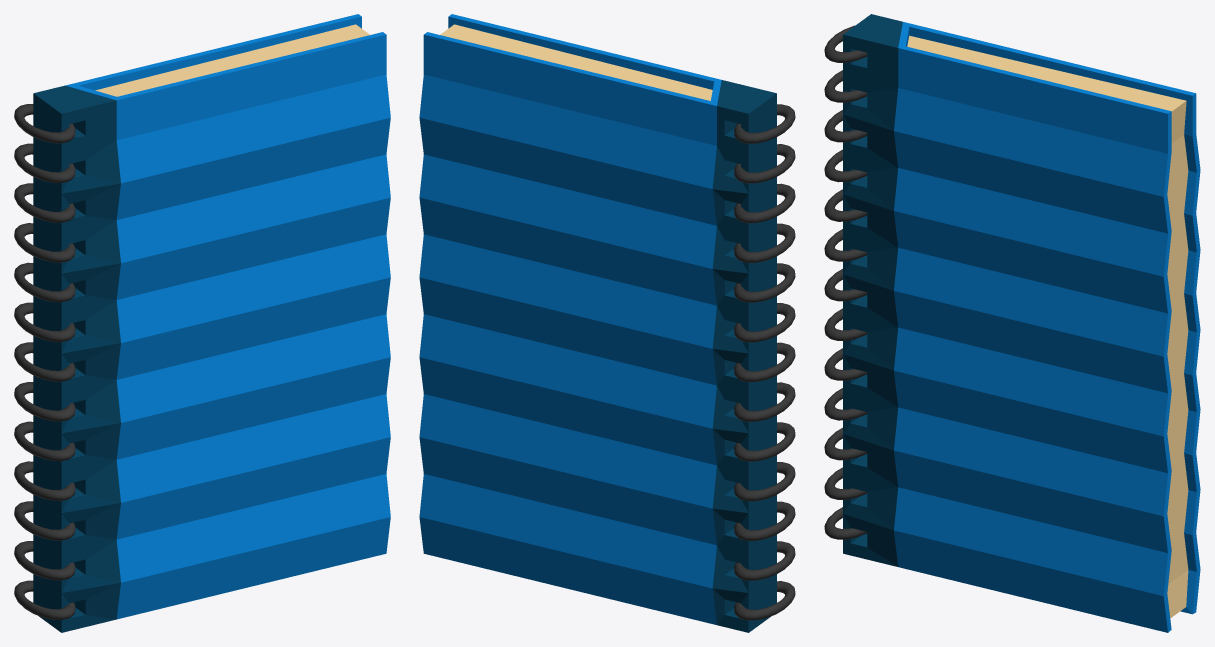
The model's file is notebook.fbx.
3 renders of one model, left to right at view 1: azimuth 30°, elevation 25°; view 2: azimuth 150°, elevation 25°; view 3: azimuth 330°, elevation 25°, orthographic.
Parts seen in each view (by area): view 1: Cube; view 2: Cube; view 3: Cube.
Boxes of the visible parts, <box> form: Cube: <box>14,14,390,632</box>; Cube: <box>419,14,795,632</box>; Cube: <box>824,14,1200,632</box>.
Bounding box in the file's own units: 214 × 305 × 47.41.
